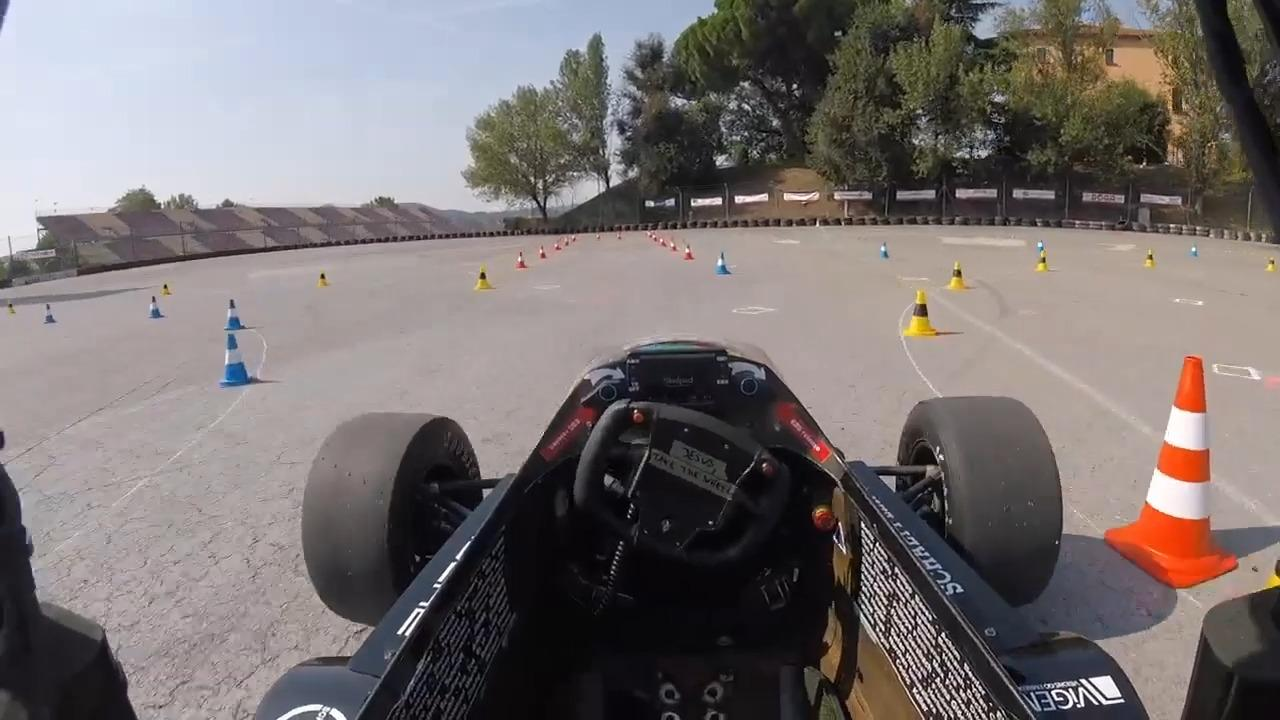blue_cone: (219, 328, 260, 390), (218, 295, 249, 333), (710, 248, 734, 278), (145, 295, 165, 320), (39, 301, 59, 325), (875, 238, 895, 261), (1187, 238, 1204, 265), (1035, 239, 1050, 257)
large_orange_cone: (1106, 349, 1248, 600)
orange_cone: (514, 250, 532, 271), (681, 242, 696, 262), (537, 244, 549, 260), (669, 237, 679, 253), (554, 237, 563, 253), (659, 234, 668, 249), (652, 231, 660, 245), (562, 235, 571, 247)
yellow_cone: (898, 286, 941, 340), (1263, 521, 1280, 601), (944, 259, 970, 294), (471, 265, 498, 294), (1032, 249, 1051, 274), (157, 278, 176, 298), (1265, 253, 1280, 276), (315, 270, 333, 289), (1143, 248, 1158, 267)
